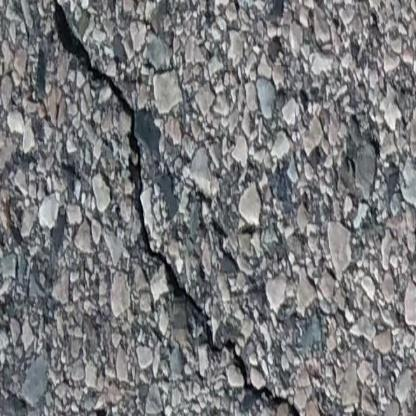Cracks: (43, 0, 311, 416)
